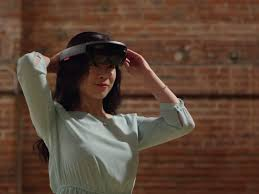hololens: (50, 39, 128, 75)
